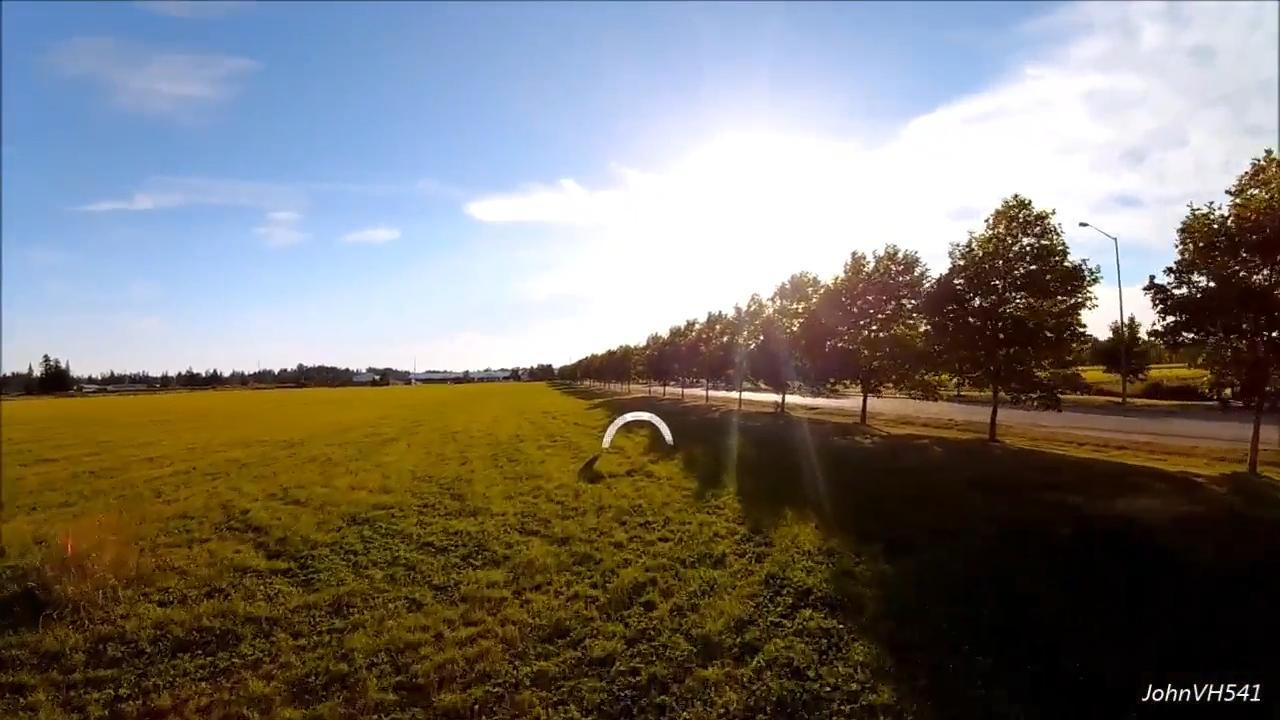gate: (600, 408, 676, 451)
